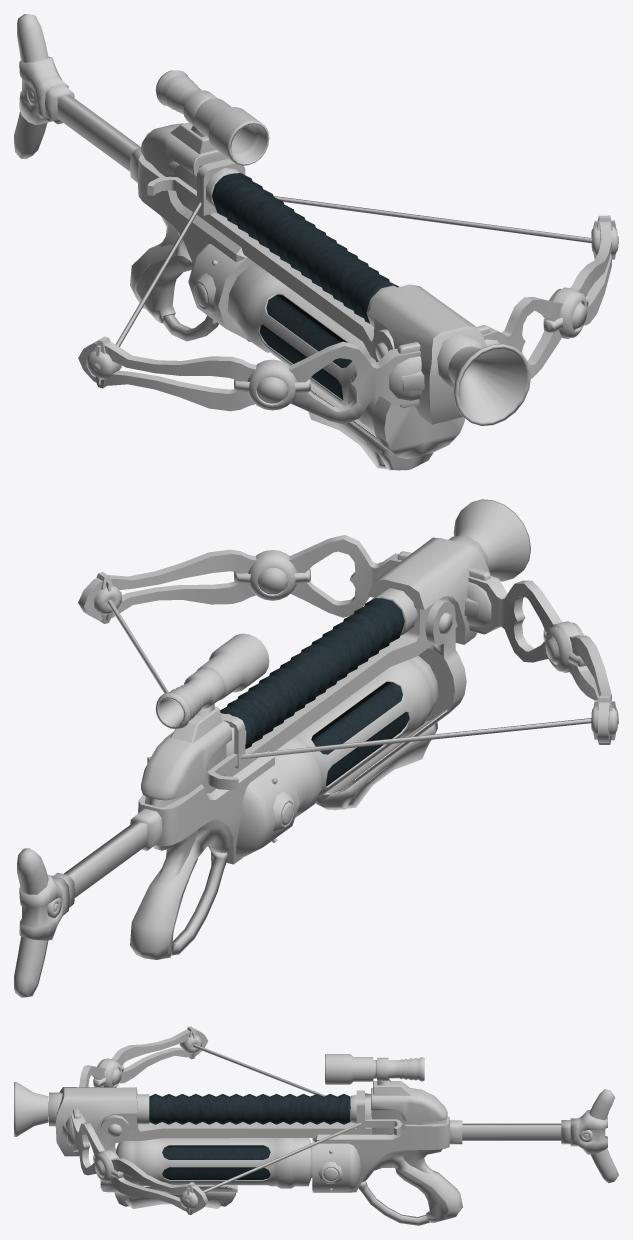
Rendered from RainbowCrossbow.fbx.
3 renders of one model, top to bottom at view 1: azimuth 30°, elevation 25°; view 2: azimuth 150°, elevation 25°; view 3: azimuth 270°, elevation 25°, orthographic. The views are drawn at different scales.
Visible parts, largest first — view 1: RainbowCrossbow_body, RainbowCrossbow_Arm_R, RainbowCrossbow_Tube, RainbowCrossbow_Stock, RainbowCrossbow_Arm_L, AmmoTube, RainbowCrossbow_polySurface61, EnergyBars, RainbowCrossbow_string, RainbowCrossbow_handle, RainbowCrossbow_polySurface82, RainbowCrossbow_polySurface83; view 2: RainbowCrossbow_body, RainbowCrossbow_Arm_L, RainbowCrossbow_Tube, RainbowCrossbow_Arm_R, RainbowCrossbow_Stock, AmmoTube, RainbowCrossbow_polySurface61, EnergyBars, RainbowCrossbow_string, RainbowCrossbow_handle, RainbowCrossbow_polySurface82, RainbowCrossbow_polySurface83; view 3: RainbowCrossbow_body, RainbowCrossbow_Tube, AmmoTube, RainbowCrossbow_Stock, RainbowCrossbow_Arm_L, RainbowCrossbow_Arm_R, EnergyBars, RainbowCrossbow_string, RainbowCrossbow_polySurface61, RainbowCrossbow_handle, RainbowCrossbow_polySurface82, RainbowCrossbow_polySurface83.
Part boxes in pixels (x1,y1,x2,y2): RainbowCrossbow_body: (129,70,530,425); RainbowCrossbow_Arm_R: (78,336,424,424); RainbowCrossbow_Tube: (212,173,398,323); RainbowCrossbow_Stock: (14,14,140,171); RainbowCrossbow_Arm_L: (477,215,618,378); AmmoTube: (227,264,378,431); RainbowCrossbow_polySurface61: (310,329,464,458); EnergyBars: (259,295,352,399); RainbowCrossbow_string: (115,196,592,346); RainbowCrossbow_handle: (147,158,245,215); RainbowCrossbow_polySurface82: (341,422,432,470); RainbowCrossbow_polySurface83: (307,411,400,470); RainbowCrossbow_body: (130,499,530,959); RainbowCrossbow_Arm_L: (78,535,411,623); RainbowCrossbow_Tube: (220,598,404,749); RainbowCrossbow_Arm_R: (464,567,618,744); RainbowCrossbow_Stock: (14,821,147,997); AmmoTube: (274,655,438,817); RainbowCrossbow_polySurface61: (323,599,466,795); EnergyBars: (311,682,409,786); RainbowCrossbow_string: (108,600,591,759); RainbowCrossbow_handle: (147,713,246,790); RainbowCrossbow_polySurface82: (315,722,437,809); RainbowCrossbow_polySurface83: (333,740,429,810); RainbowCrossbow_body: (14,1054,462,1225); RainbowCrossbow_Tube: (149,1094,350,1124); AmmoTube: (116,1138,312,1188); RainbowCrossbow_Stock: (462,1089,618,1183); RainbowCrossbow_Arm_L: (62,1109,208,1214); RainbowCrossbow_Arm_R: (79,1026,207,1087); EnergyBars: (162,1145,270,1179); RainbowCrossbow_string: (193,1044,361,1192); RainbowCrossbow_polySurface61: (100,1115,237,1192); RainbowCrossbow_handle: (351,1090,402,1135); RainbowCrossbow_polySurface82: (114,1191,235,1206); RainbowCrossbow_polySurface83: (125,1197,223,1208).
Size of the model in its own units: 8.28 by 3.97 by 12.85.
